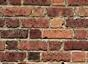brick: (43, 52, 71, 61), (23, 41, 48, 51), (1, 52, 26, 62), (22, 18, 48, 27), (1, 29, 27, 38), (44, 30, 73, 38), (4, 7, 29, 16), (48, 8, 73, 17), (64, 41, 88, 50), (66, 19, 88, 28), (5, 17, 20, 27), (75, 6, 88, 17), (32, 7, 46, 17), (23, 1, 51, 6), (73, 52, 87, 62), (49, 18, 64, 27), (50, 40, 62, 51), (28, 29, 41, 38), (28, 52, 41, 61), (7, 41, 19, 49), (75, 31, 88, 38), (68, 1, 88, 5), (51, 1, 66, 6), (8, 1, 22, 5)
